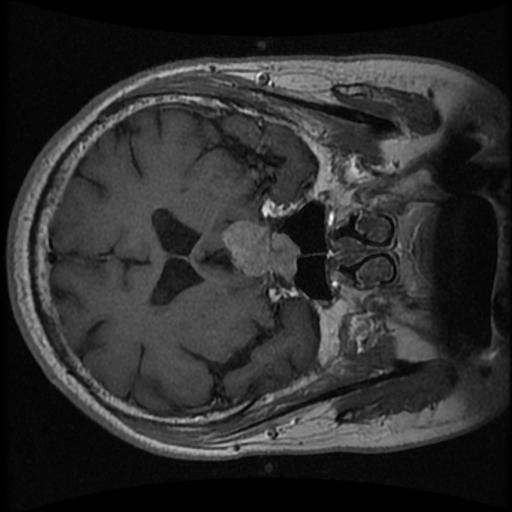pituitary tumour: (221, 220, 301, 279)
